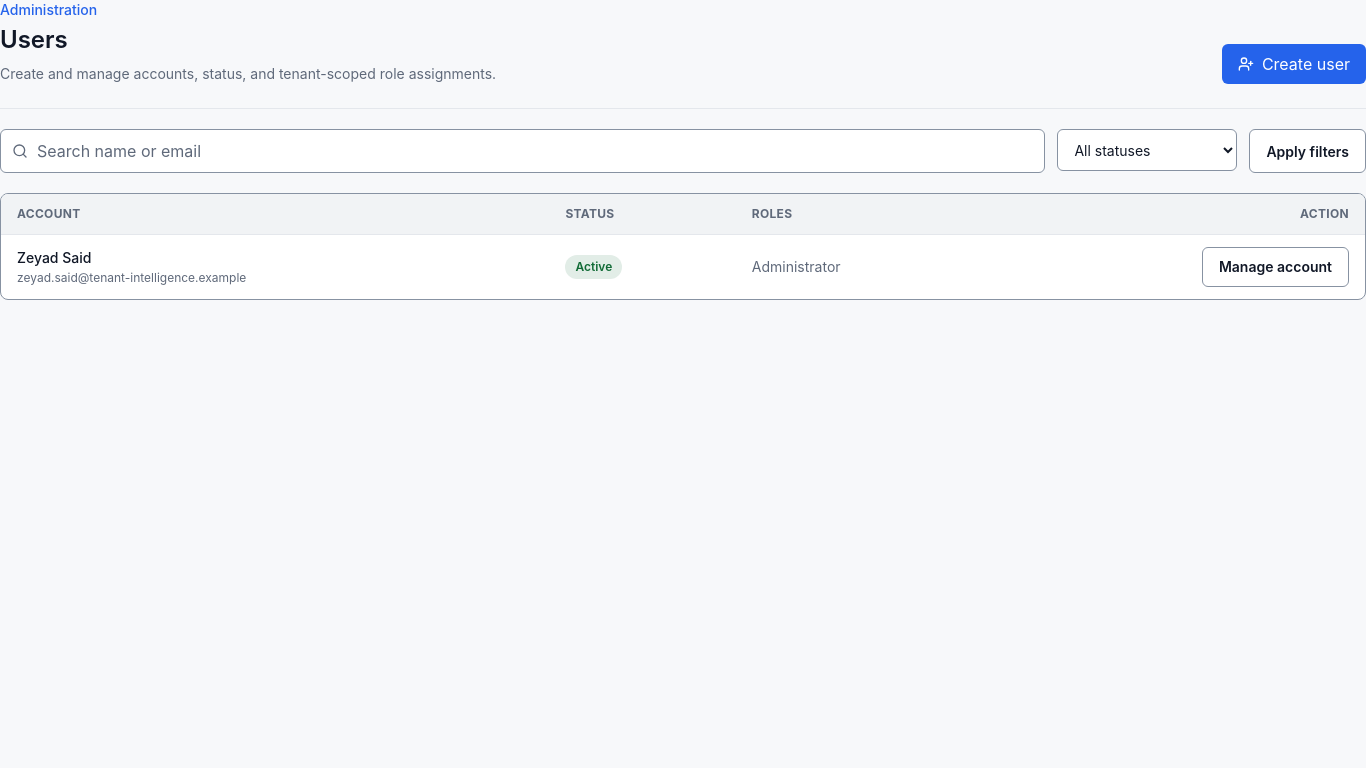
Test case: renders user status and roles and validates account creation
The image size is (1366, 768).
Expected: the text "zeyad.said@tenant-intelligence.example" is shown, top-left (17, 270), bottom-right (246, 285)
Expected: the text "Active" is shown, top-left (565, 255), bottom-right (622, 279)
Click the button "Create user" at (1294, 64), box top-left (1222, 44), bottom-right (1365, 84)
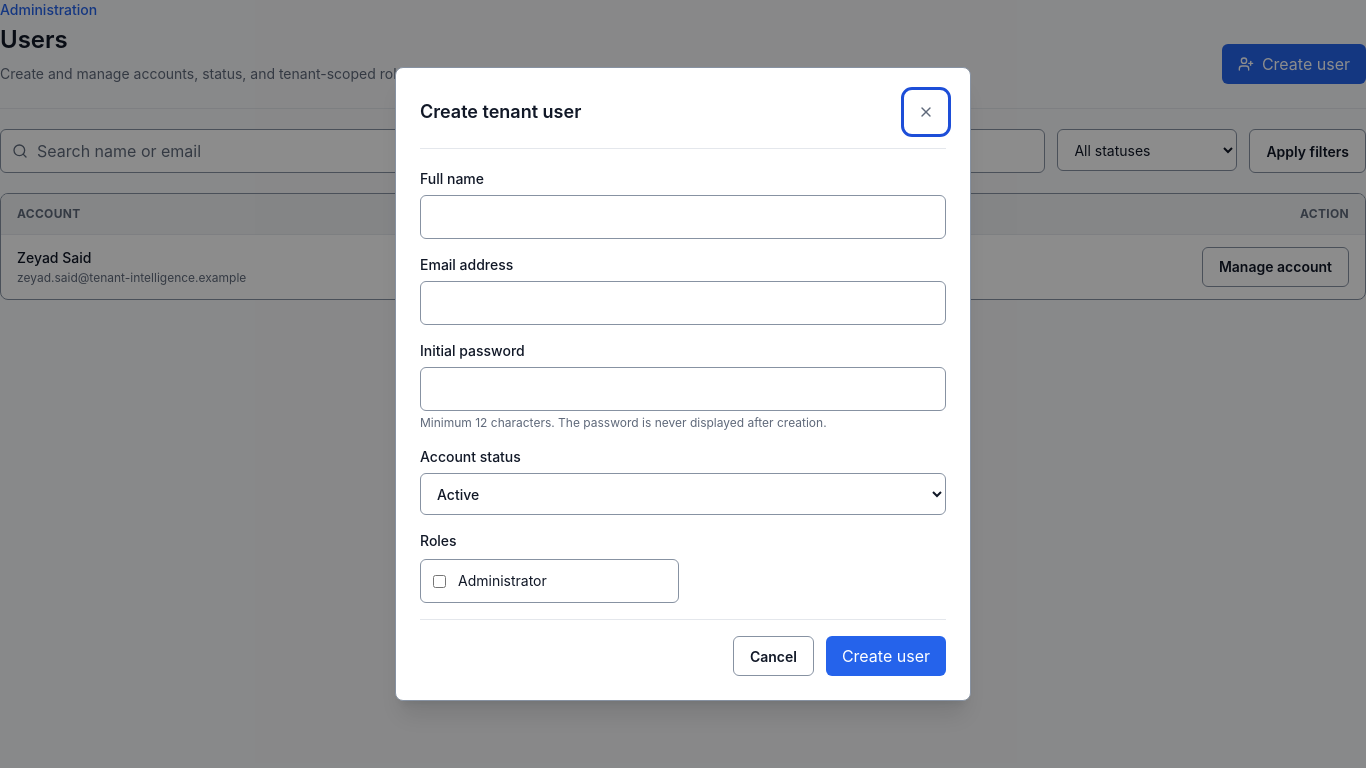
Expected: the dialog "Create tenant user" is shown, top-left (395, 67), bottom-right (971, 701)
Click the button "Create user" at (886, 656), box top-left (826, 636), bottom-right (946, 676)
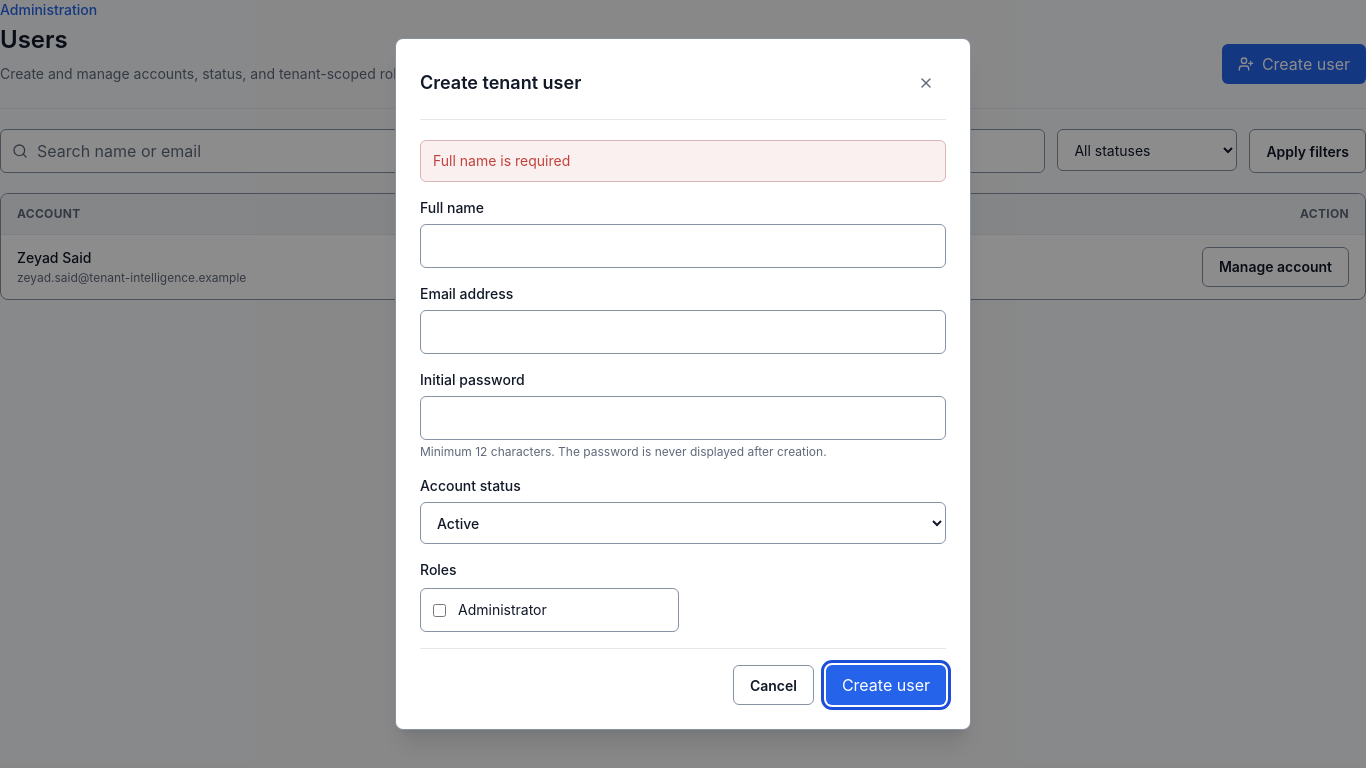
Expected: the message reads "Full name is required", top-left (433, 152), bottom-right (570, 169)
